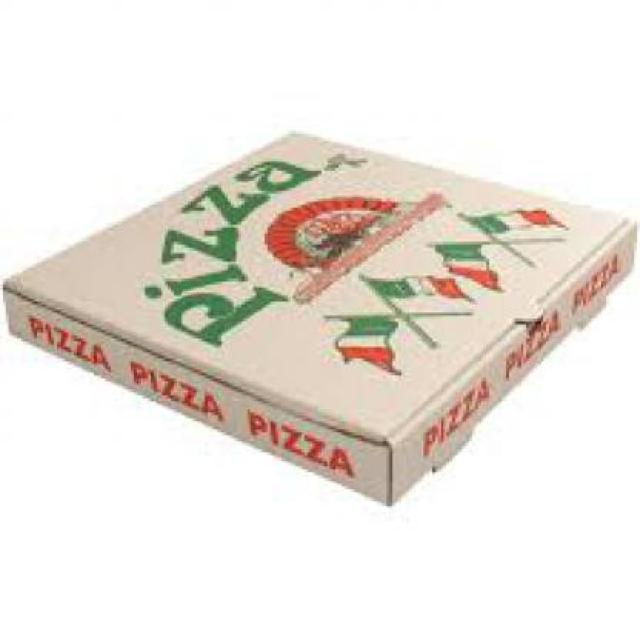CARDBOARD: (0, 128, 637, 503)
